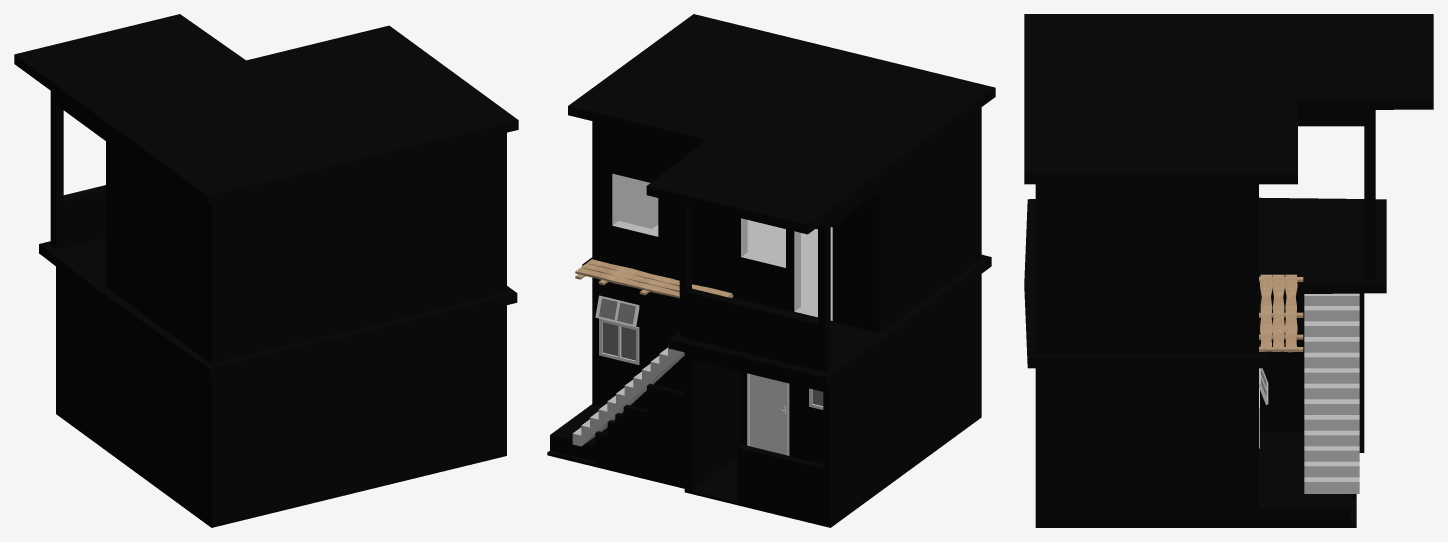
The model's file is yellowpinkhouse.FBX.
The picture shows the model from 3 angles, left to right: view 1: azimuth 30°, elevation 25°; view 2: azimuth 150°, elevation 25°; view 3: azimuth 270°, elevation 25°; orthographic projection. The views are drawn at different scales.
Parts seen in each view (by area): view 1: Box013; view 2: Box013, Box032, Box037, Box015, Box027, Box036; view 3: Box013, Box015, Box036, Box037.
Boxes of the visible parts, bbox=[...] form: Box013: bbox=[14, 14, 518, 527]; Box013: bbox=[547, 14, 995, 527]; Box032: bbox=[749, 374, 787, 455]; Box037: bbox=[575, 267, 679, 298]; Box015: bbox=[587, 259, 732, 297]; Box027: bbox=[599, 318, 639, 364]; Box036: bbox=[581, 263, 679, 292]; Box013: bbox=[1024, 14, 1433, 527]; Box015: bbox=[1260, 274, 1272, 351]; Box036: bbox=[1272, 274, 1284, 351]; Box037: bbox=[1285, 274, 1297, 351].
Size of the model in its own units: 157 by 163 by 169.
